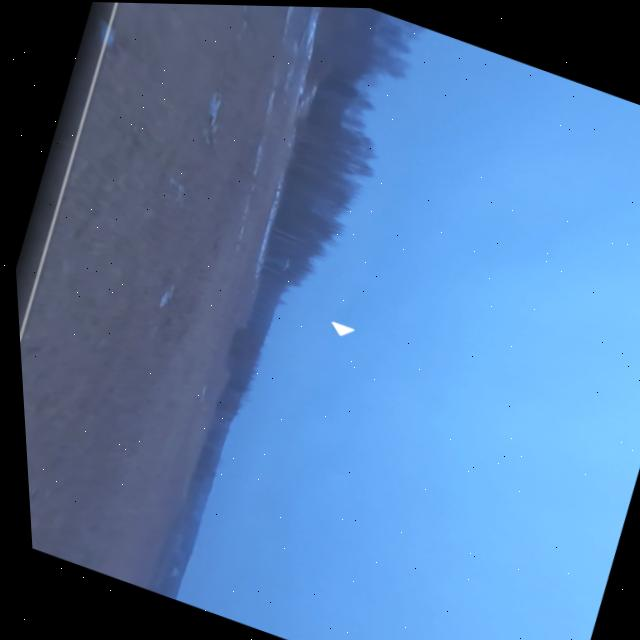planedrone: (274, 251, 298, 274)
